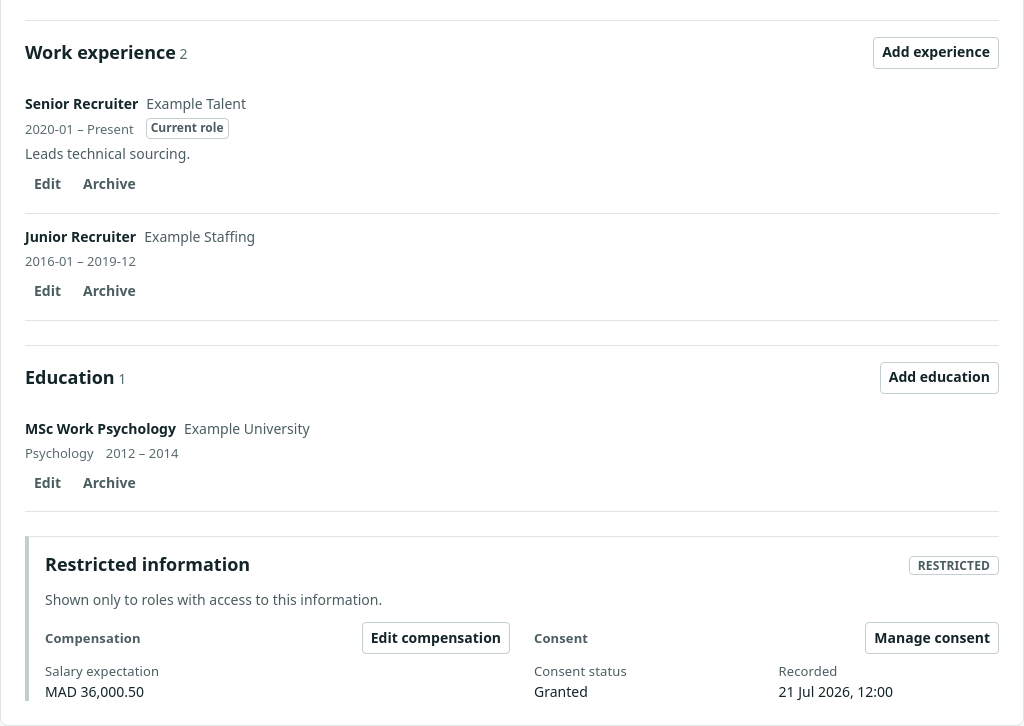
Test: Compensation form › shows a denied save generically inside the form, which stays open
The width and height of the screenshot is (1024, 726).
(page scrolled)
Step 1. Click the button "Edit compensation" → (436, 638), box [362, 622, 510, 654]
(page scrolled)
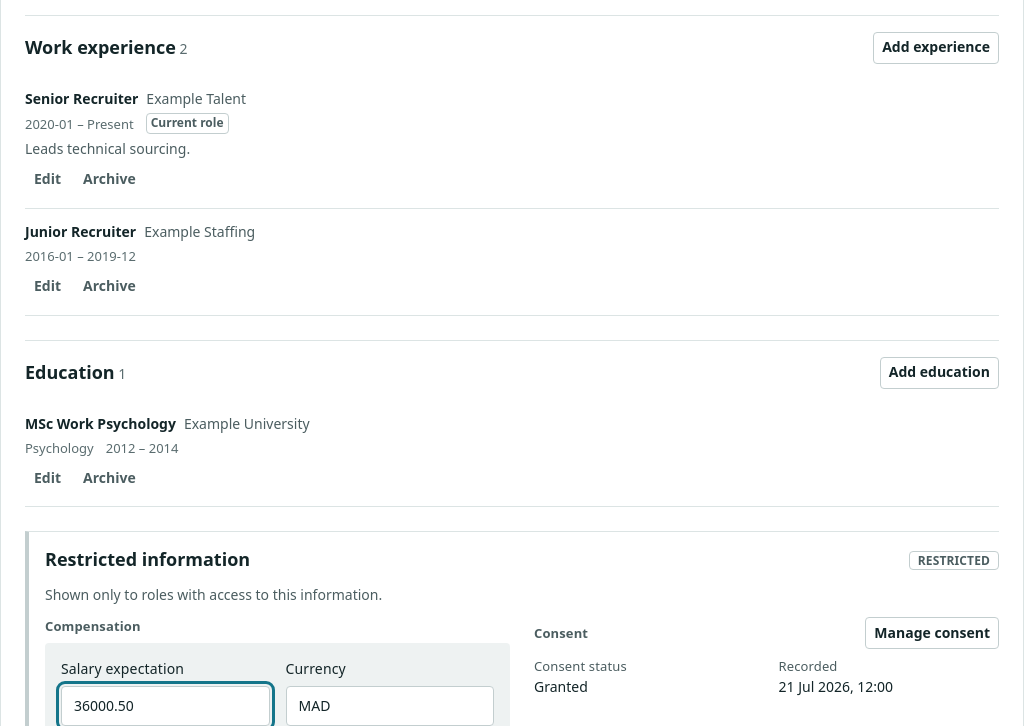
Step 2. Replace the text in the field labelled "Salary expectation" with "1" → (165, 706), box [61, 686, 270, 725]
(page scrolled)
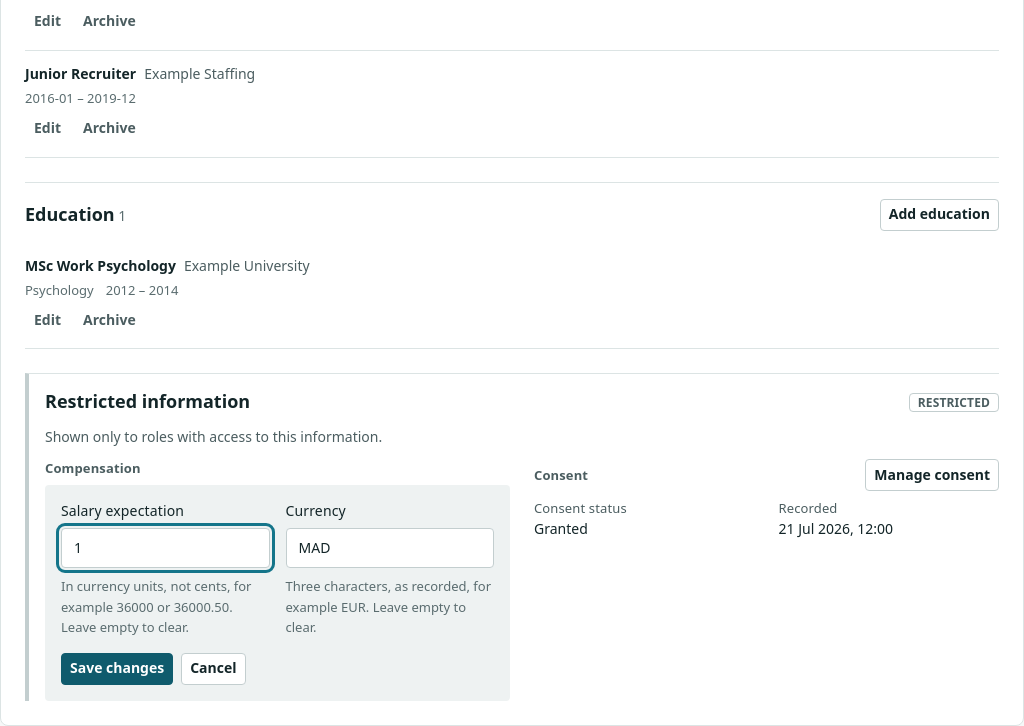
Step 3. Click the button "Save changes" → (117, 669), box [61, 653, 173, 685]
(page scrolled)
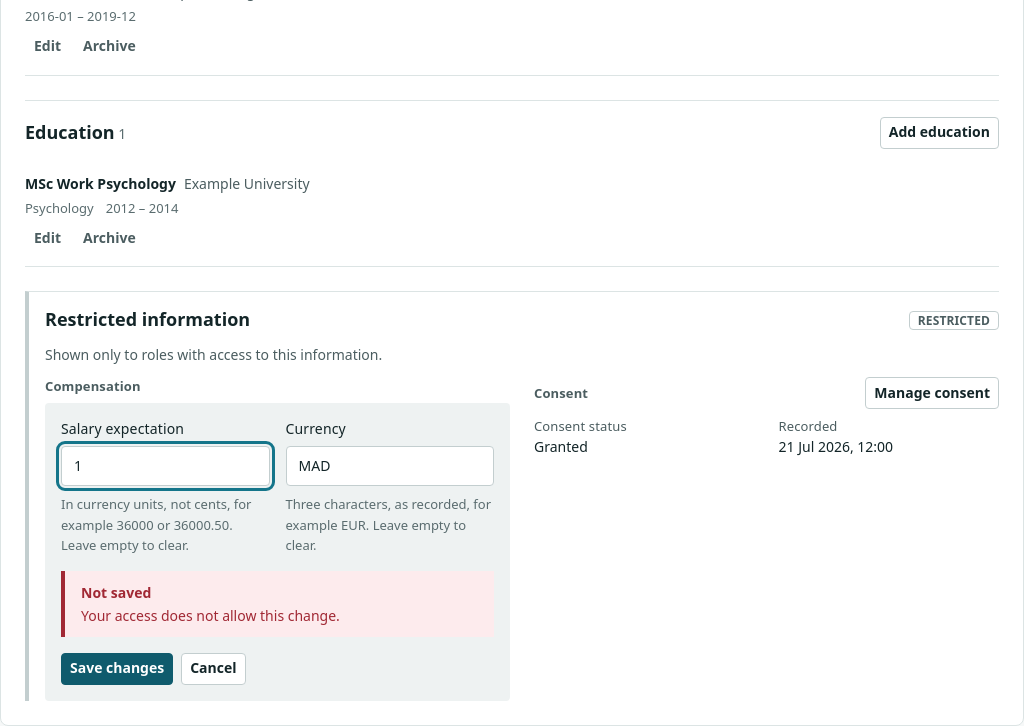
Expected: the form named "Edit compensation" is shown, [45, 403, 510, 701]
Expected: the message shows "Your access does not allow this change.", [81, 606, 340, 625]
